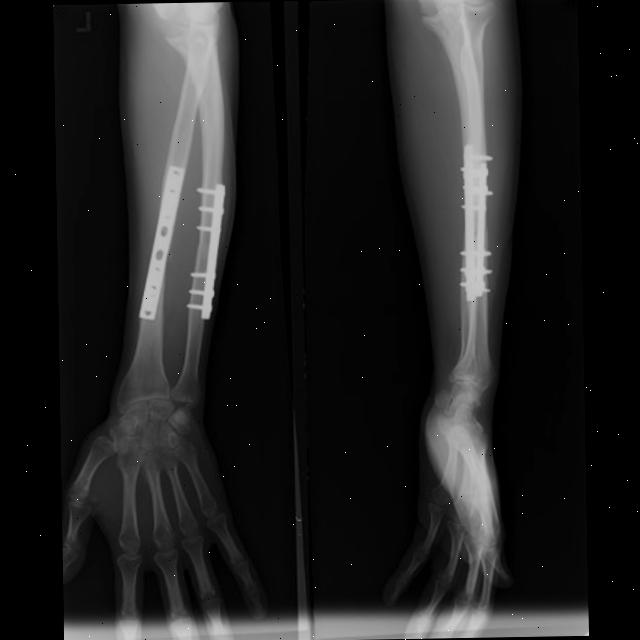Fracture: (462, 218, 487, 249), (196, 238, 208, 262)
